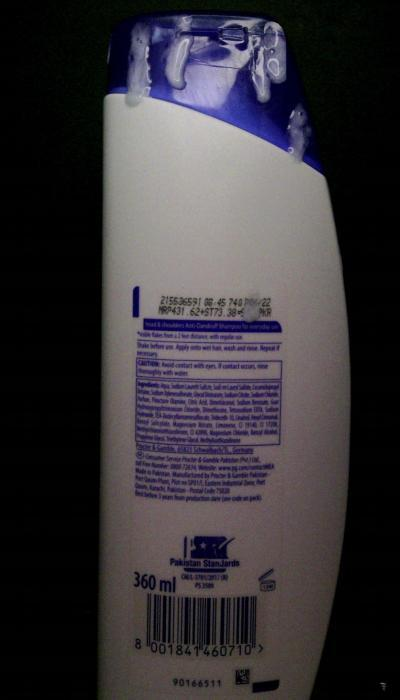pob_unacc: (225, 13, 293, 110), (120, 19, 160, 112), (161, 11, 197, 99), (281, 101, 314, 179), (235, 290, 264, 330)
